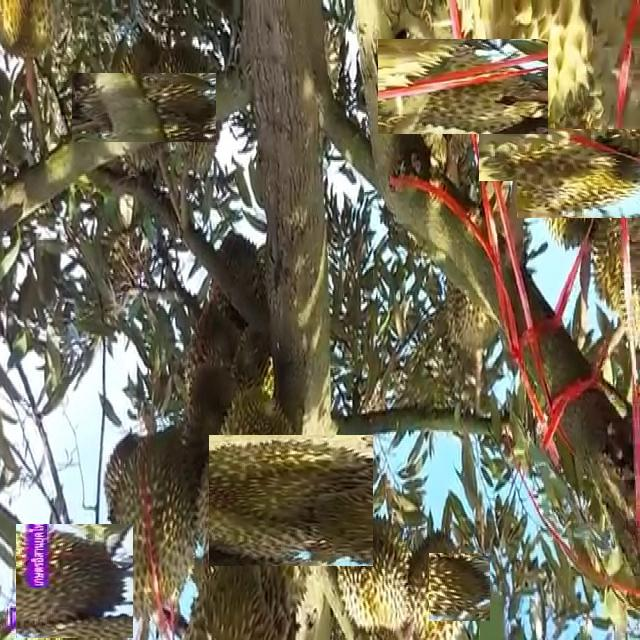durian: (162, 408, 346, 593), (452, 2, 635, 123), (108, 421, 208, 621), (504, 105, 640, 243), (396, 20, 529, 154), (442, 181, 517, 365), (17, 523, 133, 639), (151, 38, 226, 198), (91, 54, 198, 161), (334, 515, 429, 635), (181, 567, 302, 640), (394, 543, 481, 630)
